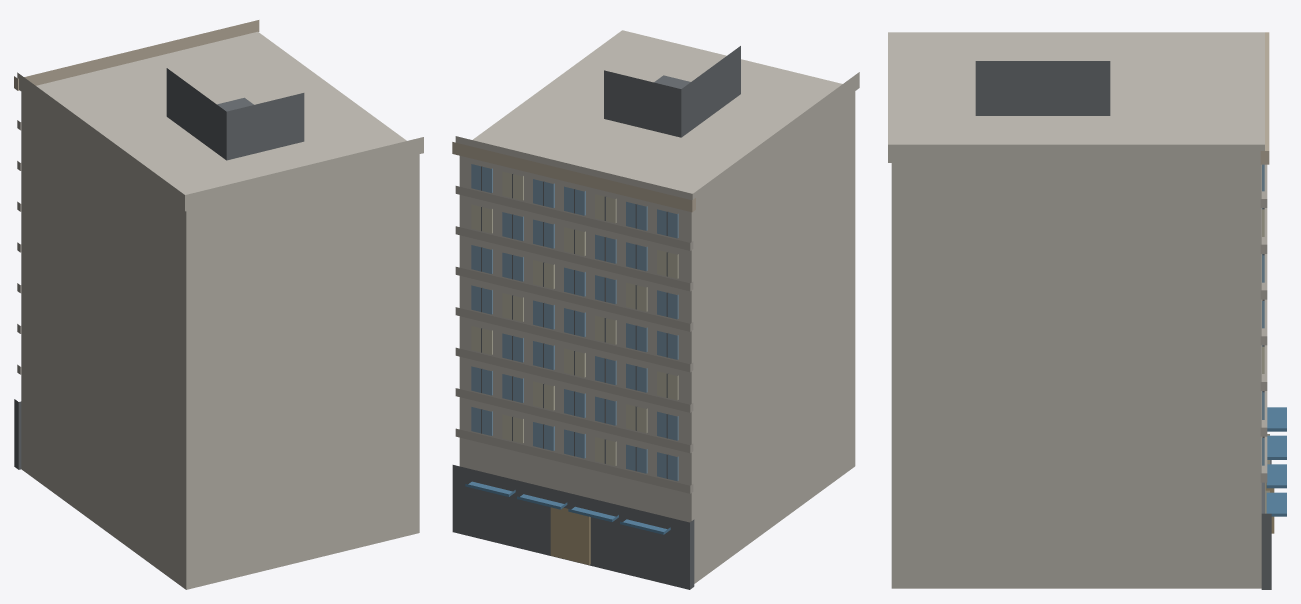
File: building_commercial.glb
The picture shows the model from 3 angles, left to right: view 1: azimuth 30°, elevation 25°; view 2: azimuth 150°, elevation 25°; view 3: azimuth 270°, elevation 25°; orthographic projection. The views are drawn at different scales.
Parts seen in each view (by area): view 1: Mesh; view 2: Mesh; view 3: Mesh.
Part boxes in pixels (x1,y1,x2,y2): Mesh: (14,20,423,589); Mesh: (452,30,859,589); Mesh: (888,32,1286,589).
Bounding box in the file's own units: 18.6 × 31.8 × 23.7.
